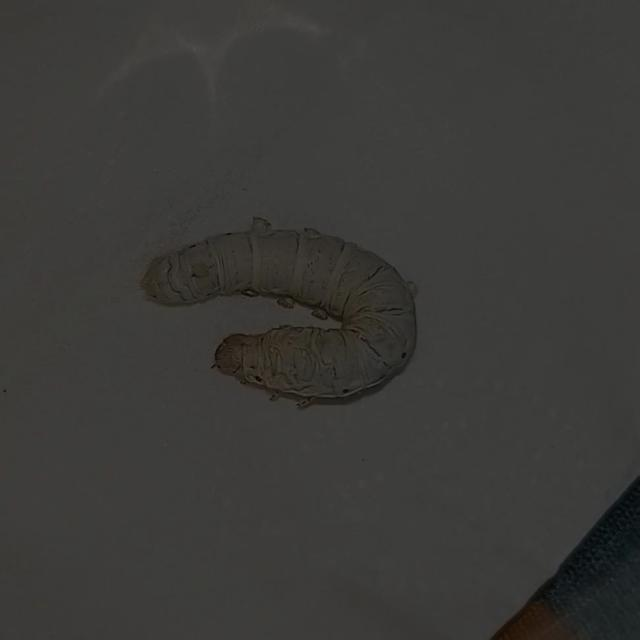Healthy: (128, 194, 437, 422)
